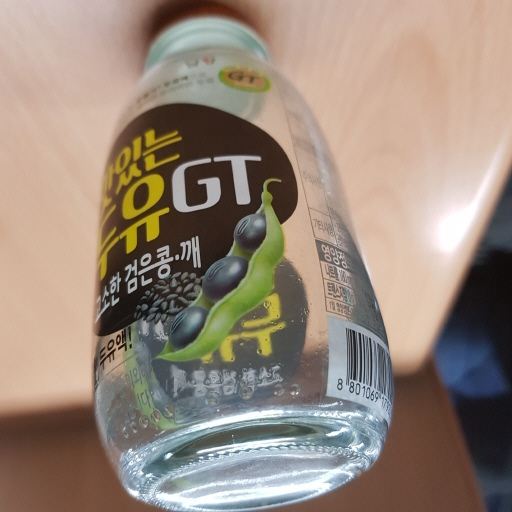Glass_4: (81, 12, 400, 509)
